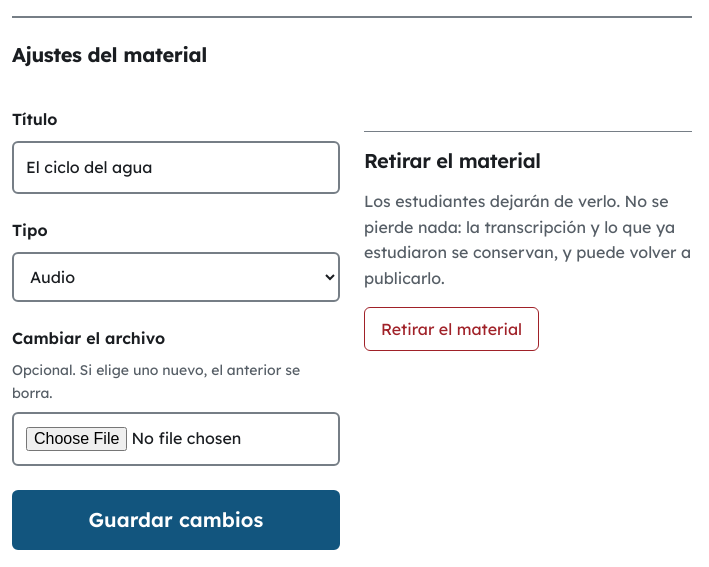
Scenario: Ajustes del material › se puede echar atrás la confirmación
Click the button "Retirar el material": click(451, 329) x1=364 y1=307 x2=539 y2=351
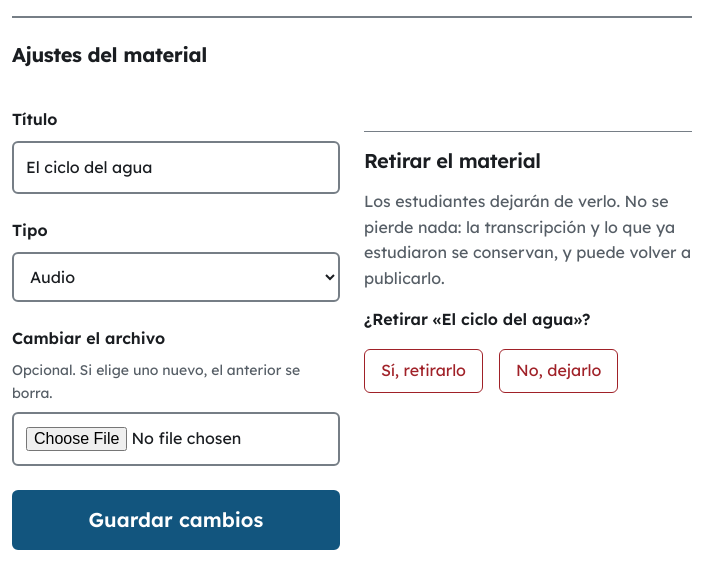
Click the button "No, dejarlo": click(559, 371) x1=499 y1=349 x2=618 y2=393
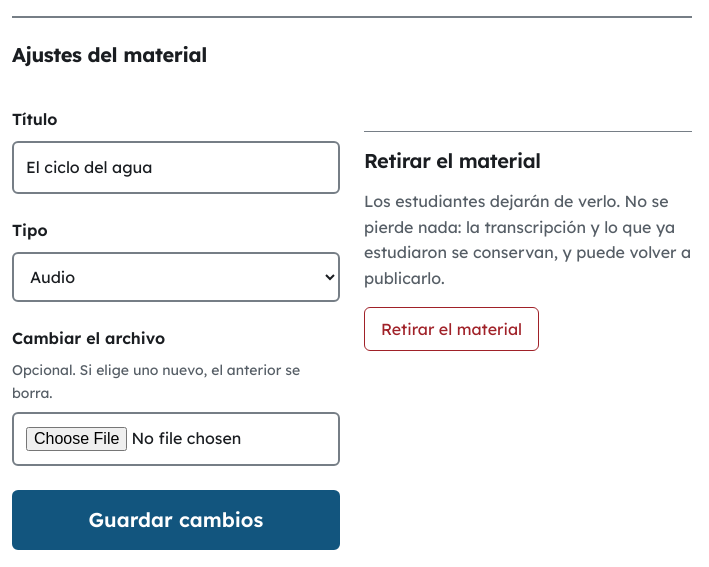
Now the button "Retirar el material" is shown, box x1=364 y1=307 x2=539 y2=351
